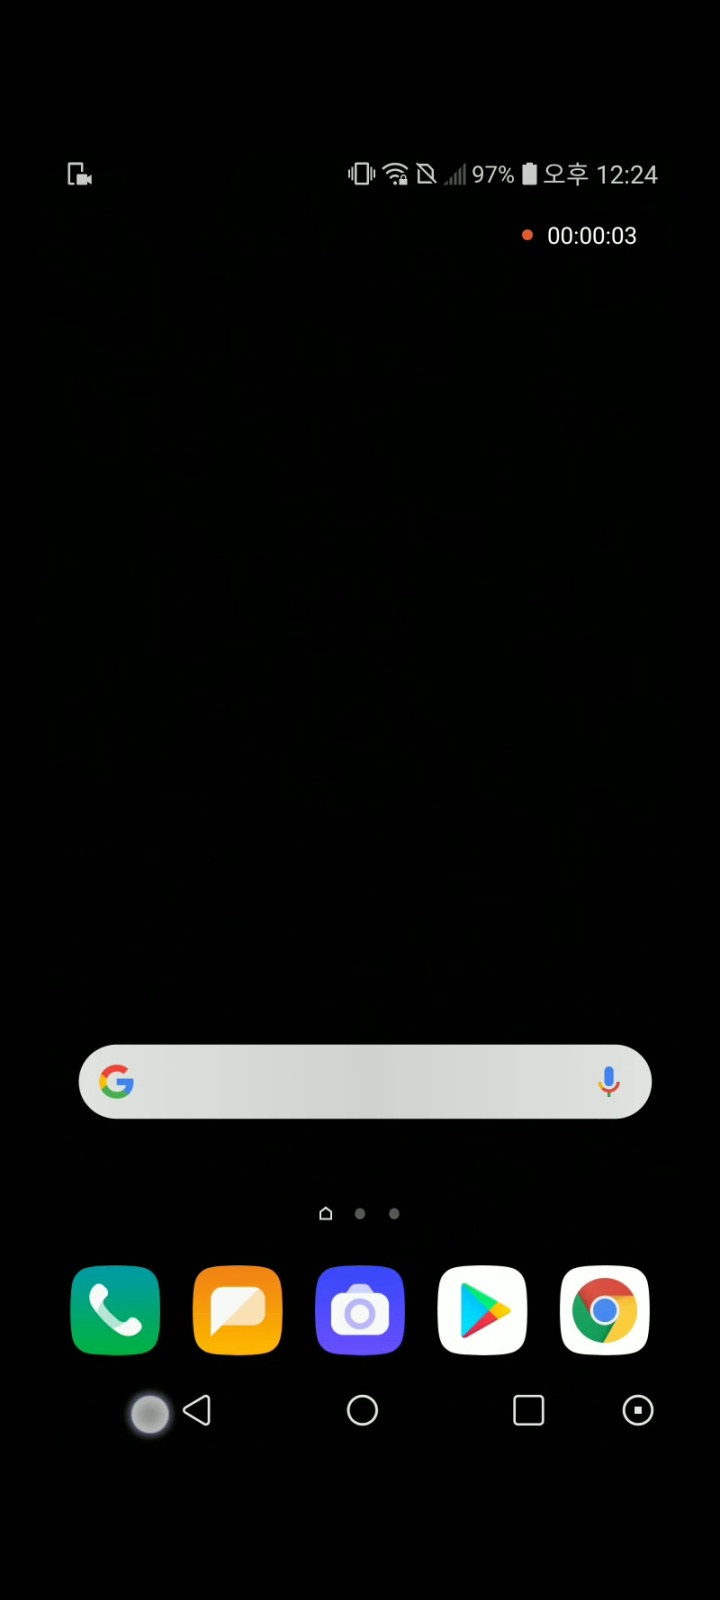Cursor: (130, 1394, 175, 1439)
